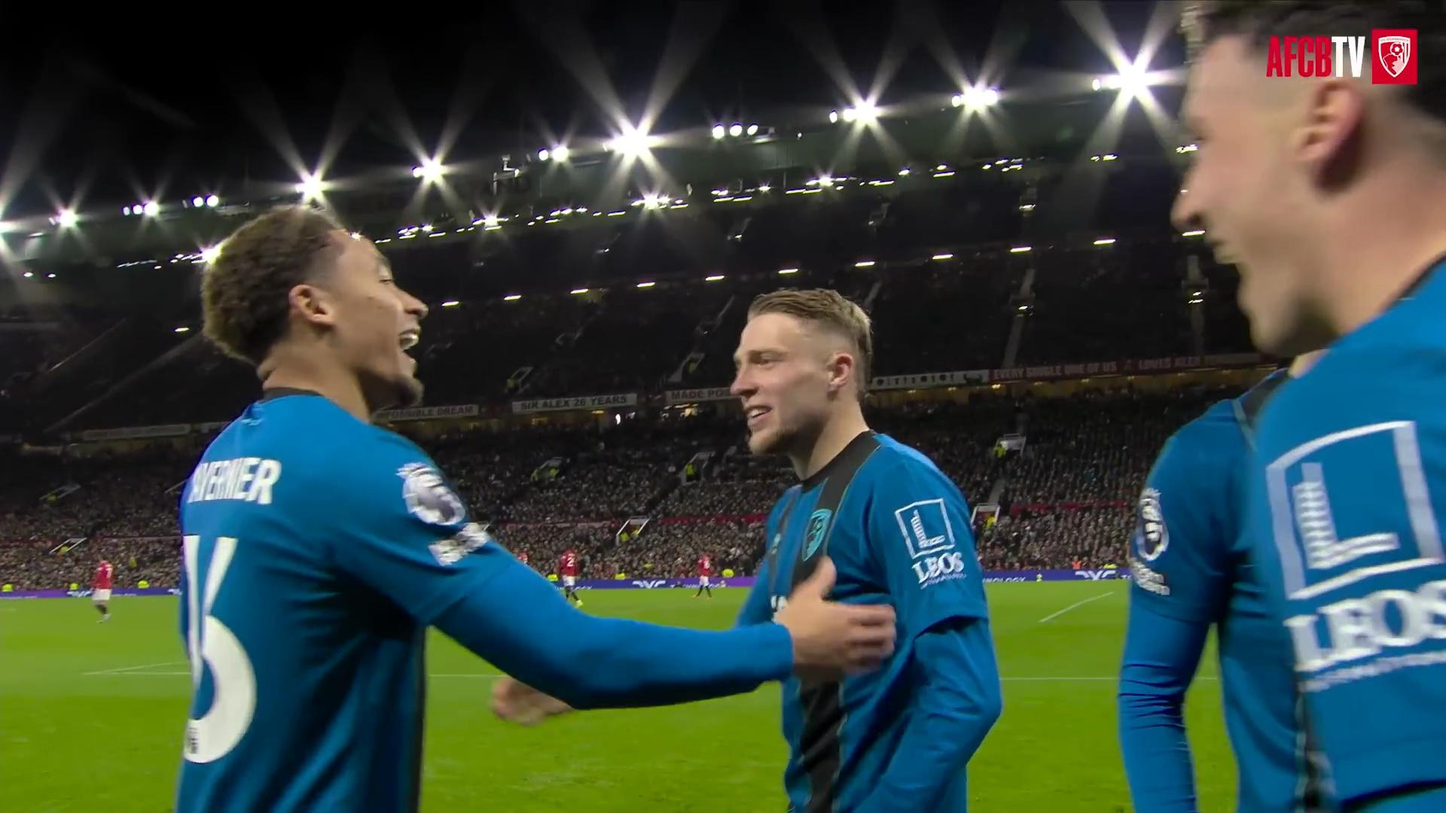player: (175, 207, 893, 812), (1175, 0, 1445, 812), (732, 289, 1002, 812), (1118, 354, 1326, 812), (559, 548, 582, 606), (92, 559, 113, 622), (694, 553, 712, 598), (516, 550, 529, 566)
